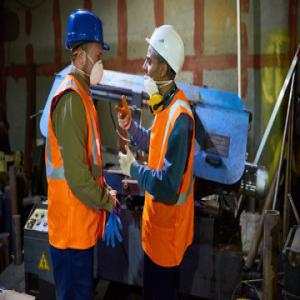blue: (64, 9, 110, 84)
white: (140, 21, 188, 96)
